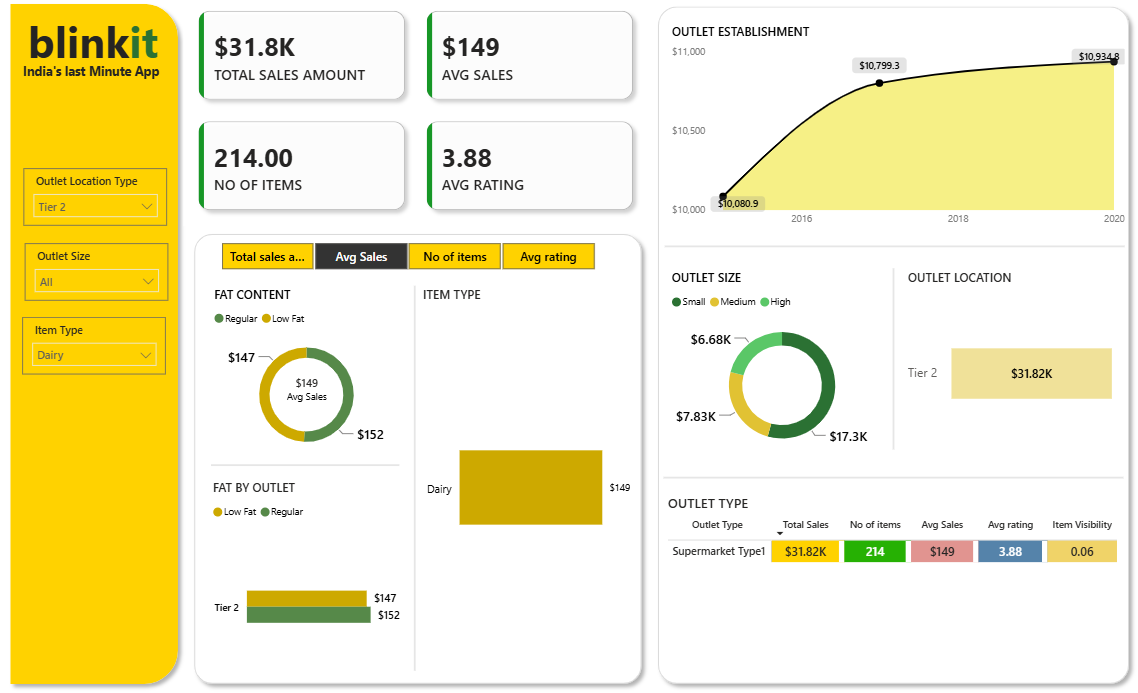

This screenshot's page, from the dashboard's own definition file:
{"tool":"powerbi","page":{"name":"Page 1","canvas":[1300,820],"ordinal":0},"visuals":[{"type":"shape","box":[18.1,26.5,204.9,776.3],"z":0},{"type":"textbox","box":[41.8,39,207.7,92],"z":1000},{"type":"textbox","box":[36.2,96.2,207.7,40.4],"z":2000},{"type":"cardVisual","fields":{"Data":["BlinkIT_Cleaned.Total sales amount","BlinkIT_Cleaned.Avg Sales","BlinkIT_Cleaned.No of items","BlinkIT_Cleaned.Avg rating"]},"box":[220.2,26.5,519.8,256.4],"z":3000},{"type":"shape","box":[223,282.9,517,519.8],"z":4000},{"type":"slicer","fields":{"Values":["Metrics.Metrics"]},"box":[236.9,291.3,465.5,47.4],"z":5000},{"type":"donutChart","title":"FAT CONTENT","fields":{"Y":["BlinkIT_Cleaned.Avg Sales"],"Category":["BlinkIT_Cleaned.Item Fat Content"]},"box":[249.5,349.8,216,197.9],"z":5000},{"type":"cardVisual","fields":{"Data":["BlinkIT_Cleaned.Avg Sales"]},"box":[324.7,437.6,66.9,54.4],"z":6001},{"type":"clusteredBarChart","title":"FAT BY OUTLET","fields":{"Y":["BlinkIT_Cleaned.Avg Sales"],"Category":["BlinkIT_Cleaned.Outlet Location Type"],"Series":["BlinkIT_Cleaned.Item Fat Content"]},"box":[248.1,565.8,230,232.7],"z":7000},{"type":"shape","box":[250.9,543.5,210,12.5],"z":8000},{"type":"shape","box":[461.3,349.8,33.4,429.2],"z":9000},{"type":"barChart","title":"ITEM TYPE","fields":{"Y":["BlinkIT_Cleaned.Avg Sales"],"Category":["BlinkIT_Cleaned.Item Type"]},"box":[482.2,349.8,241.1,429.2],"z":10000},{"type":"shape","box":[740,29.3,543.5,773.5],"z":11000},{"type":"lineChart","title":"OUTLET ESTABLISHMENT","fields":{"Y":["BlinkIT_Cleaned.Total sales amount"],"Category":["BlinkIT_Cleaned.Outlet Establishment Year"]},"box":[756.8,57.1,512.9,235.5],"z":12000},{"type":"shape","box":[756.8,299.6,512.9,12.5],"z":13000},{"type":"donutChart","title":"OUTLET SIZE","fields":{"Y":["Sum(BlinkIT_Cleaned.Total Sales)"],"Category":["BlinkIT_Cleaned.Outlet Size"]},"box":[759.5,331.7,256.4,213.2],"z":13001},{"type":"funnel","title":"OUTLET LOCATION","fields":{"Category":["BlinkIT_Cleaned.Outlet Location Type"],"Y":["Sum(BlinkIT_Cleaned.Total Sales)"]},"box":[1022.9,331.7,242.5,214.6],"z":13002},{"type":"shape","box":[995.1,330.3,33.4,202.1],"z":13003},{"type":"shape","box":[755.4,557.5,512.9,12.5],"z":13004},{"type":"pivotTable","title":"OUTLET TYPE","fields":{"Rows":["BlinkIT_Cleaned.Outlet Type"],"Values":["Sum(BlinkIT_Cleaned.Total Sales)","BlinkIT_Cleaned.No of items","BlinkIT_Cleaned.Avg Sales","BlinkIT_Cleaned.Avg rating","Avg(BlinkIT_Cleaned.Item Visibility)"]},"box":[755.4,581.2,528.2,200.7],"z":13005},{"type":"slicer","fields":{"Values":["BlinkIT_Cleaned.Outlet Location Type"]},"box":[41.8,218.8,160.3,64.1],"z":13006},{"type":"slicer","fields":{"Values":["BlinkIT_Cleaned.Outlet Size"]},"box":[43.2,302.4,160.3,64.1],"z":13007},{"type":"slicer","fields":{"Values":["BlinkIT_Cleaned.Item Type"]},"box":[40.4,384.6,160.3,64.1],"z":13008}]}

Visuals, with their boxes on the page's 1300x820 design canvas (x1, y1, x2, y2). These are canvas units, not pixel positions in the 1138x693 screenshot, which may show the page scaled, cropped or inside an application window:
shape: <bbox>18, 26, 223, 803</bbox>
textbox: <bbox>42, 39, 250, 131</bbox>
textbox: <bbox>36, 96, 244, 137</bbox>
cardVisual - BlinkIT_Cleaned.Total sales amount x BlinkIT_Cleaned.Avg Sales: <bbox>220, 26, 740, 283</bbox>
shape: <bbox>223, 283, 740, 803</bbox>
slicer - Metrics.Metrics: <bbox>237, 291, 702, 339</bbox>
"FAT CONTENT" donutChart: <bbox>250, 350, 466, 548</bbox>
cardVisual - BlinkIT_Cleaned.Avg Sales: <bbox>325, 438, 392, 492</bbox>
"FAT BY OUTLET" clusteredBarChart: <bbox>248, 566, 478, 798</bbox>
shape: <bbox>251, 544, 461, 556</bbox>
shape: <bbox>461, 350, 495, 779</bbox>
"ITEM TYPE" barChart: <bbox>482, 350, 723, 779</bbox>
shape: <bbox>740, 29, 1284, 803</bbox>
"OUTLET ESTABLISHMENT" lineChart: <bbox>757, 57, 1270, 293</bbox>
shape: <bbox>757, 300, 1270, 312</bbox>
"OUTLET SIZE" donutChart: <bbox>760, 332, 1016, 545</bbox>
"OUTLET LOCATION" funnel: <bbox>1023, 332, 1265, 546</bbox>
shape: <bbox>995, 330, 1028, 532</bbox>
shape: <bbox>755, 558, 1268, 570</bbox>
"OUTLET TYPE" pivotTable: <bbox>755, 581, 1284, 782</bbox>
slicer - BlinkIT_Cleaned.Outlet Location Type: <bbox>42, 219, 202, 283</bbox>
slicer - BlinkIT_Cleaned.Outlet Size: <bbox>43, 302, 204, 366</bbox>
slicer - BlinkIT_Cleaned.Item Type: <bbox>40, 385, 201, 449</bbox>
